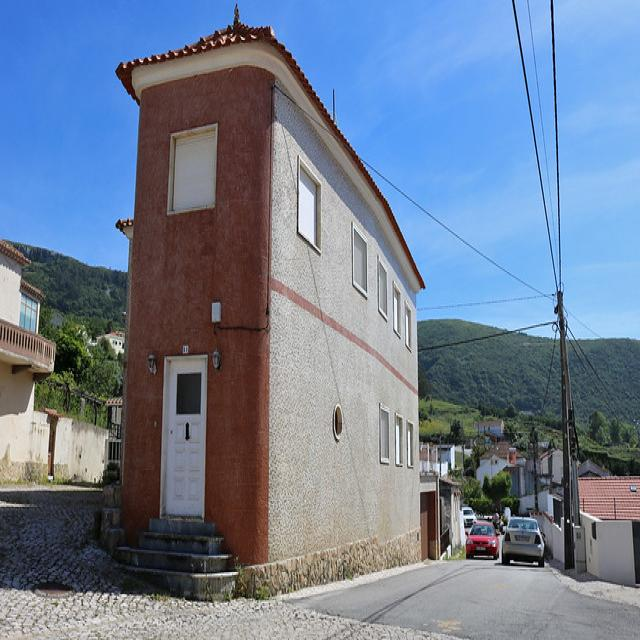building: (108, 16, 428, 588)
